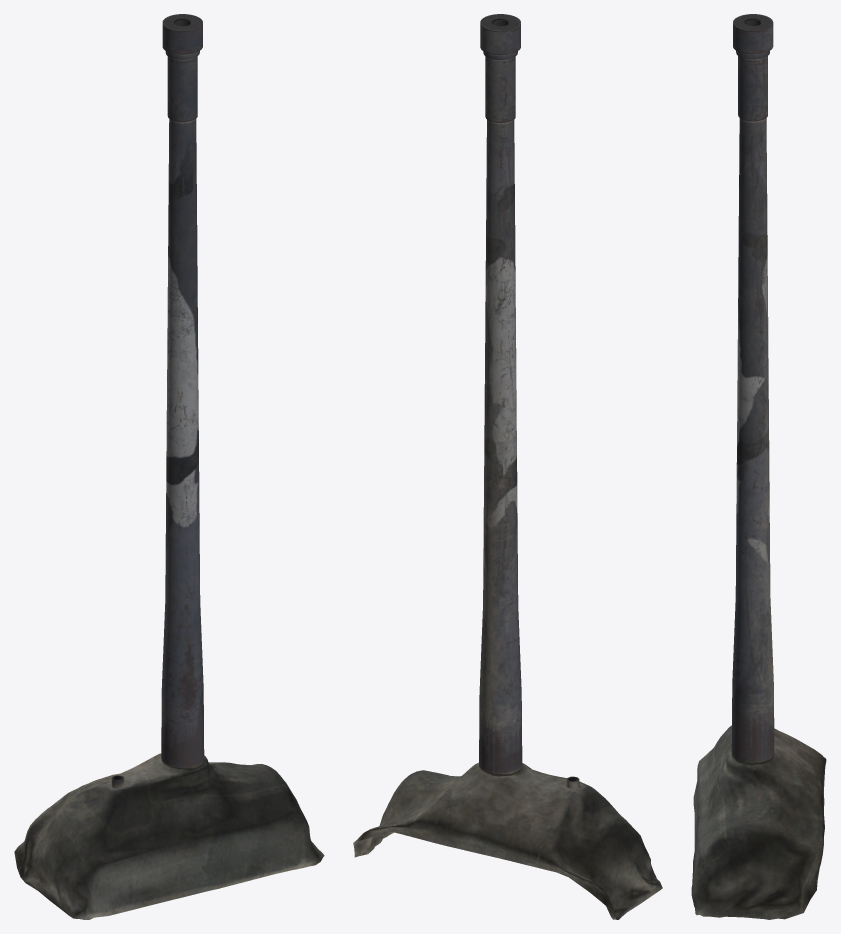
File: Gun_01.glb
The picture shows the model from 3 angles, left to right: view 1: azimuth 30°, elevation 25°; view 2: azimuth 150°, elevation 25°; view 3: azimuth 270°, elevation 25°; orthographic projection.
Visible parts, largest first — view 1: set_0_group_0; view 2: set_0_group_0; view 3: set_0_group_0.
Part boxes in pixels (x1,y1,x2,y2): set_0_group_0: (14,14,324,919); set_0_group_0: (353,14,662,919); set_0_group_0: (691,14,826,919).
Bounding box in the file's own units: 1.57 × 4.86 × 0.7057.
Materials: 1 (1 with a texture image).
